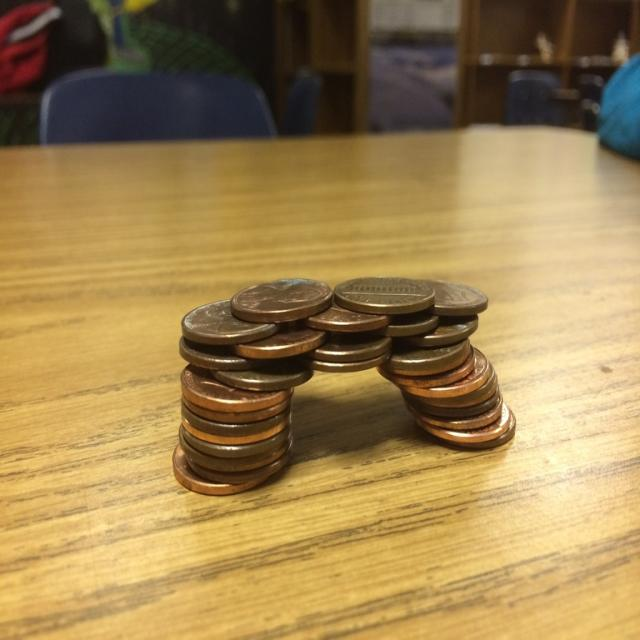Coin: (169, 274, 518, 493)
